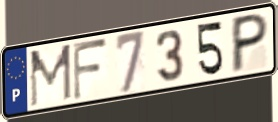3: (154, 29, 186, 83)
5: (195, 21, 225, 78)
7: (114, 27, 147, 96)
F: (71, 37, 110, 103)
M: (28, 42, 74, 110)
P: (229, 11, 270, 76)
